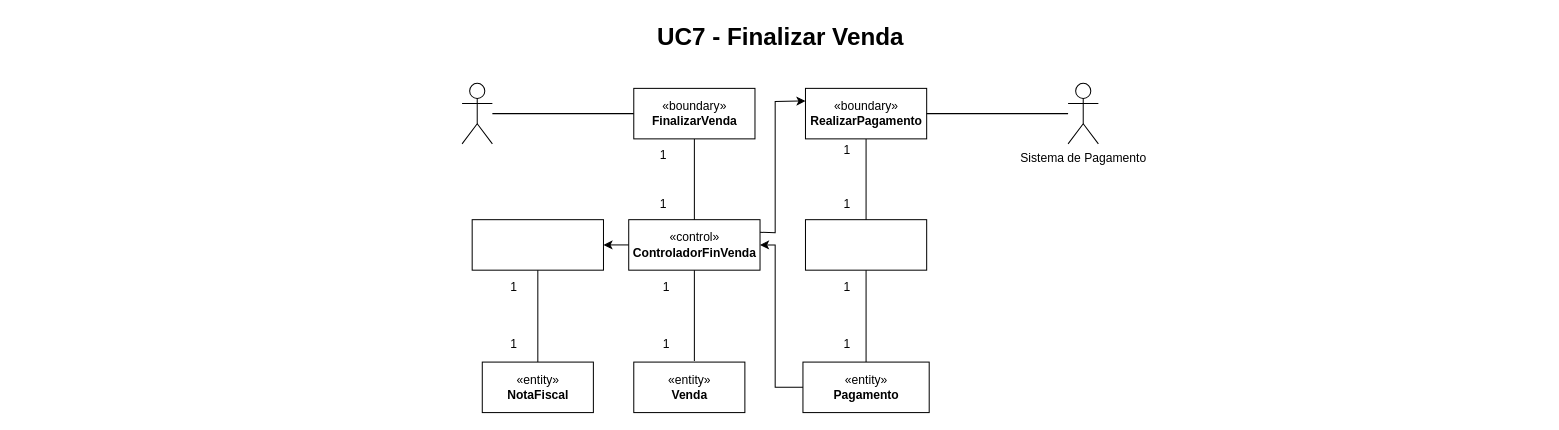
Some shapes in this 1559 by 430 pixel diagram are drawn without their labels. Each missing label, with the centre of its shape:
"Operador do Caixa" belongs at pixel 476 113.
"«control» ControladorSistPgto" belongs at pixel 865 244.
"«control» EmissorDeNF" belongs at pixel 537 244.
